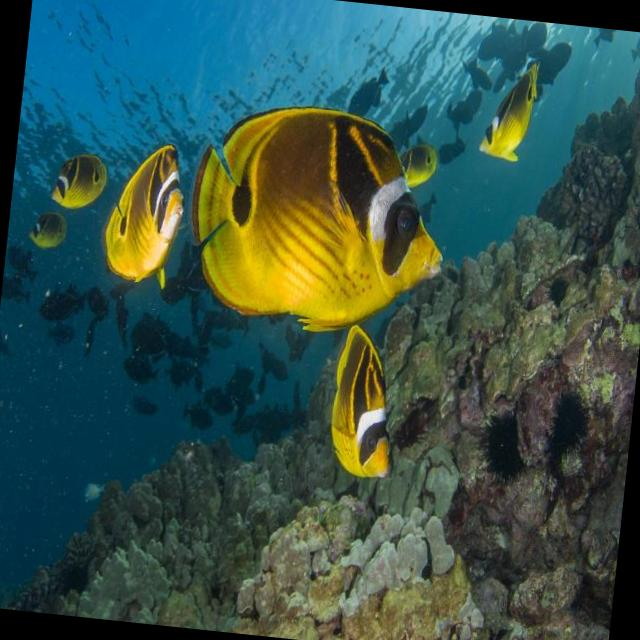ButterflyFish: (187, 95, 454, 322), (104, 137, 187, 293), (327, 330, 408, 478), (482, 59, 539, 163), (52, 150, 106, 212), (16, 214, 76, 252)
